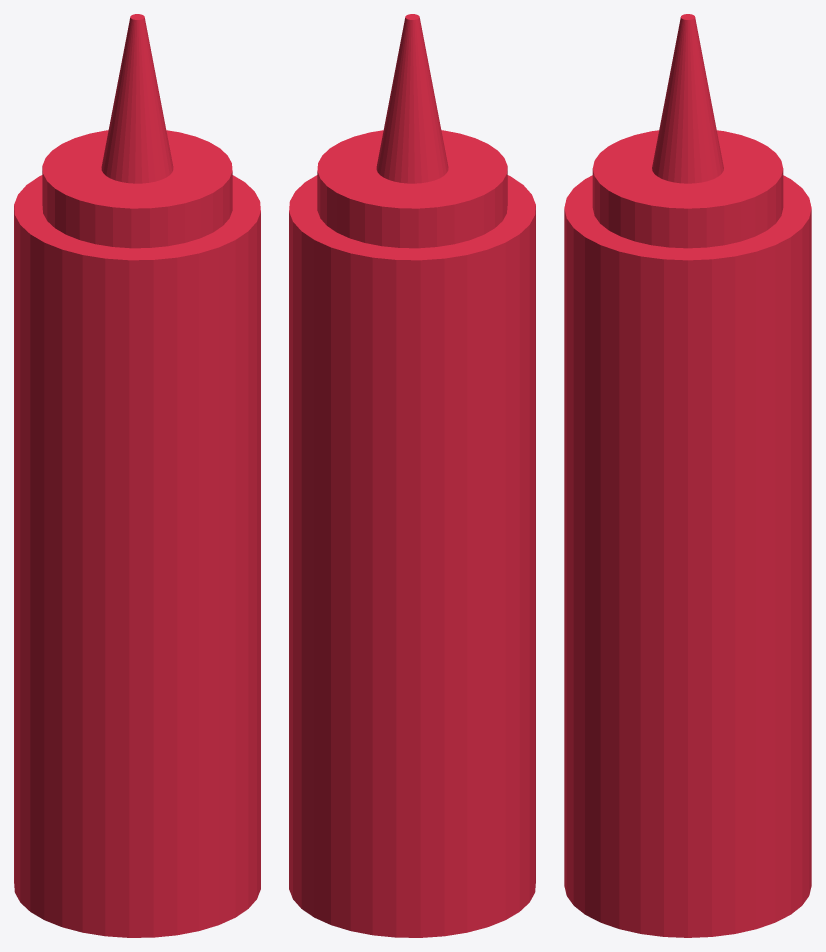
File: ketchup.glb
3 views of the same model, side by side, from view 1: azimuth 30°, elevation 25°; view 2: azimuth 150°, elevation 25°; view 3: azimuth 270°, elevation 25° (orthographic).
Parts seen in each view (by area): view 1: Cylinder; view 2: Cylinder; view 3: Cylinder.
Part boxes in pixels (<box>): Cylinder: <box>14,14,260,937</box>; Cylinder: <box>289,14,535,937</box>; Cylinder: <box>564,14,811,937</box>.
Bounding box in the file's own units: 2 × 7.75 × 2.
